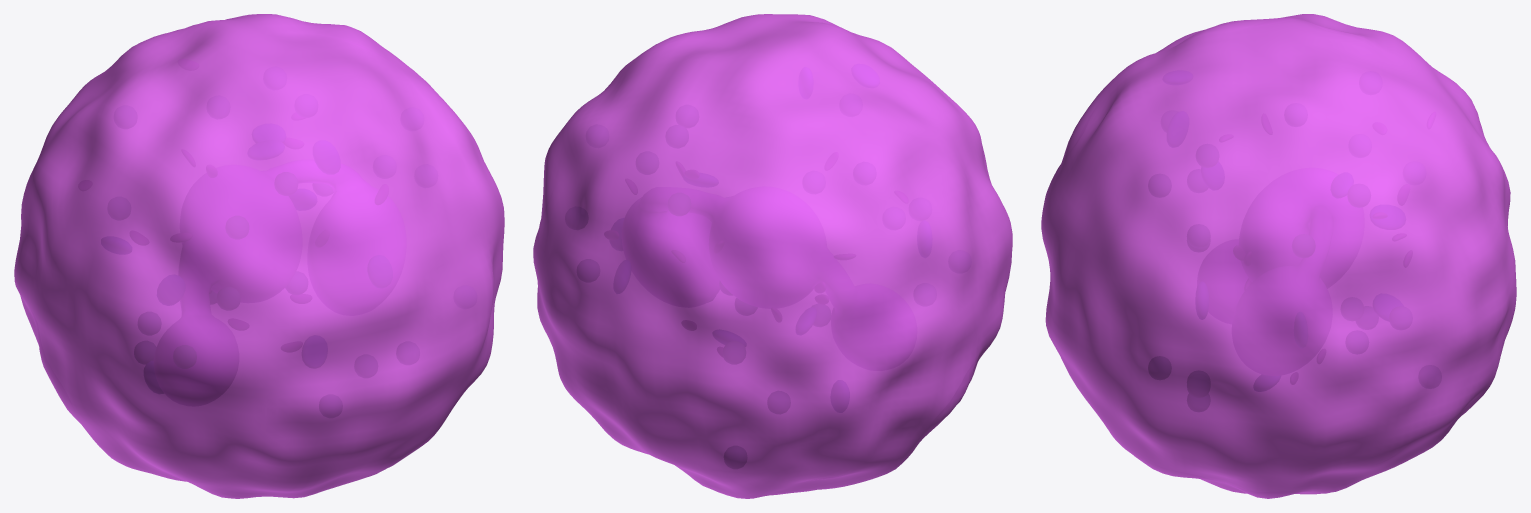
The model's file is Blood_cells.fbx.
The picture shows the model from 3 angles, left to right: view 1: azimuth 30°, elevation 25°; view 2: azimuth 150°, elevation 25°; view 3: azimuth 270°, elevation 25°; orthographic projection.
Parts seen in each view (by area): view 1: Membrane; view 2: Membrane; view 3: Membrane.
Part boxes in pixels (x1,y1,x2,y2): Membrane: (14,14,504,498); Membrane: (533,14,1012,498); Membrane: (1041,14,1516,498).
Bounding box in the file's own units: 269 × 276 × 269.
